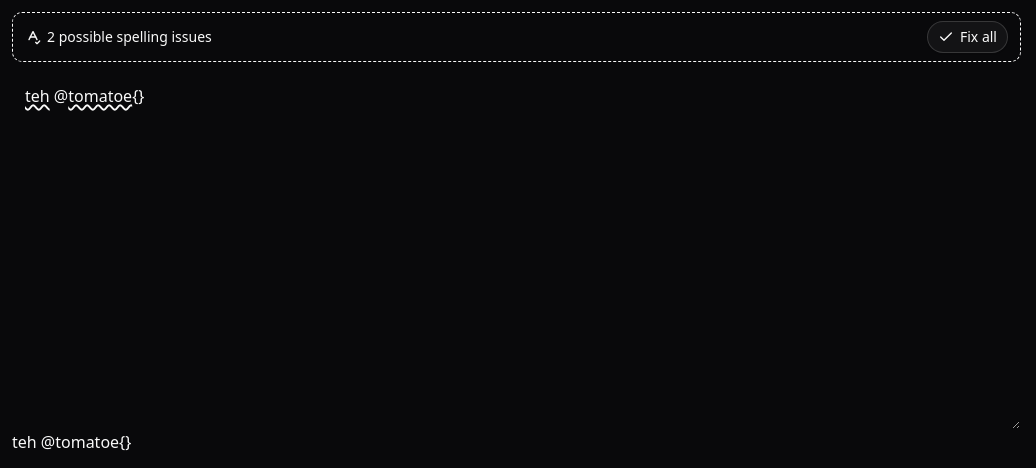
Test: SpellcheckEditor › fixes every issue at once
Click the button "Fix all". click: (968, 37)
box: x1=927 y1=21 x2=1008 y2=53
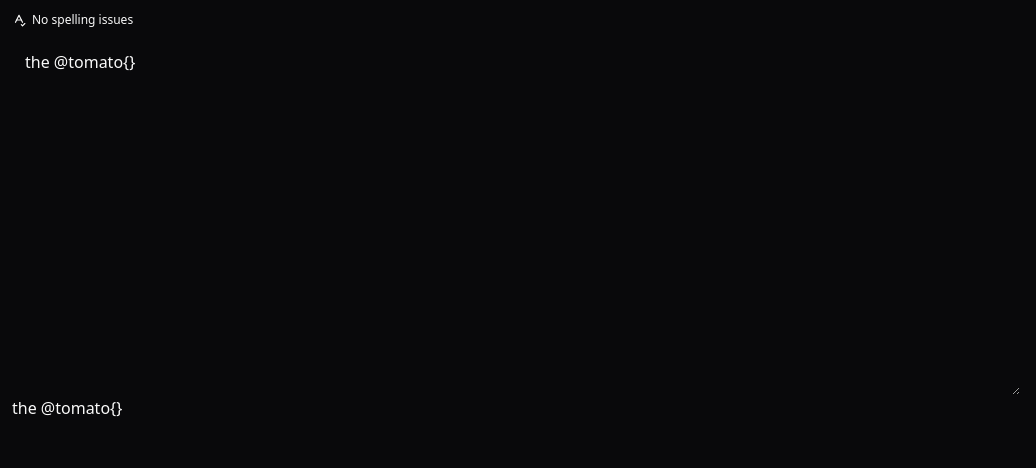
Expected: the text with test id "value" reads "the @tomato{}", x1=12 y1=397 x2=122 y2=419
